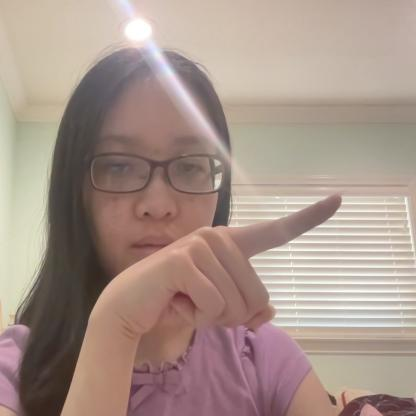finger_point: (236, 188, 346, 260)
